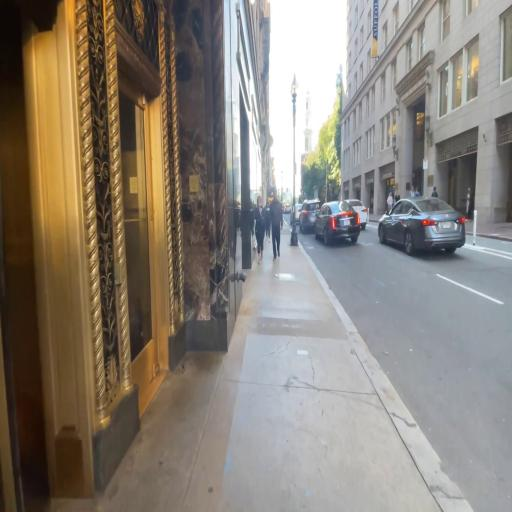Street_Light: (288, 64, 304, 248)
